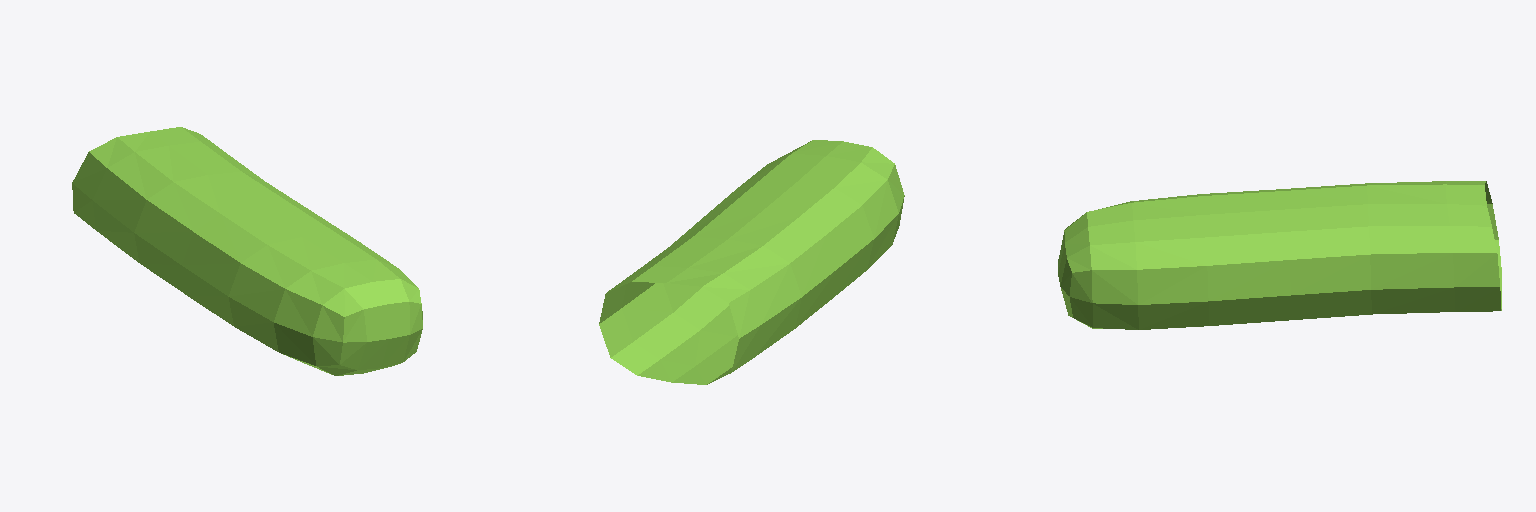
The model's file is left_leg.obj.
3 views of the same model, side by side, from view 1: azimuth 30°, elevation 25°; view 2: azimuth 150°, elevation 25°; view 3: azimuth 270°, elevation 25° (orthographic).
Visible parts, largest first — view 1: Stickman_Cube.005; view 2: Stickman_Cube.005; view 3: Stickman_Cube.005.
Boxes of the visible parts, box(x1,y1,x2,y2) form: Stickman_Cube.005: box(72, 127, 422, 375); Stickman_Cube.005: box(599, 140, 904, 384); Stickman_Cube.005: box(1058, 181, 1501, 329).
Size of the model in its own units: 0.724 by 0.4671 by 1.77.